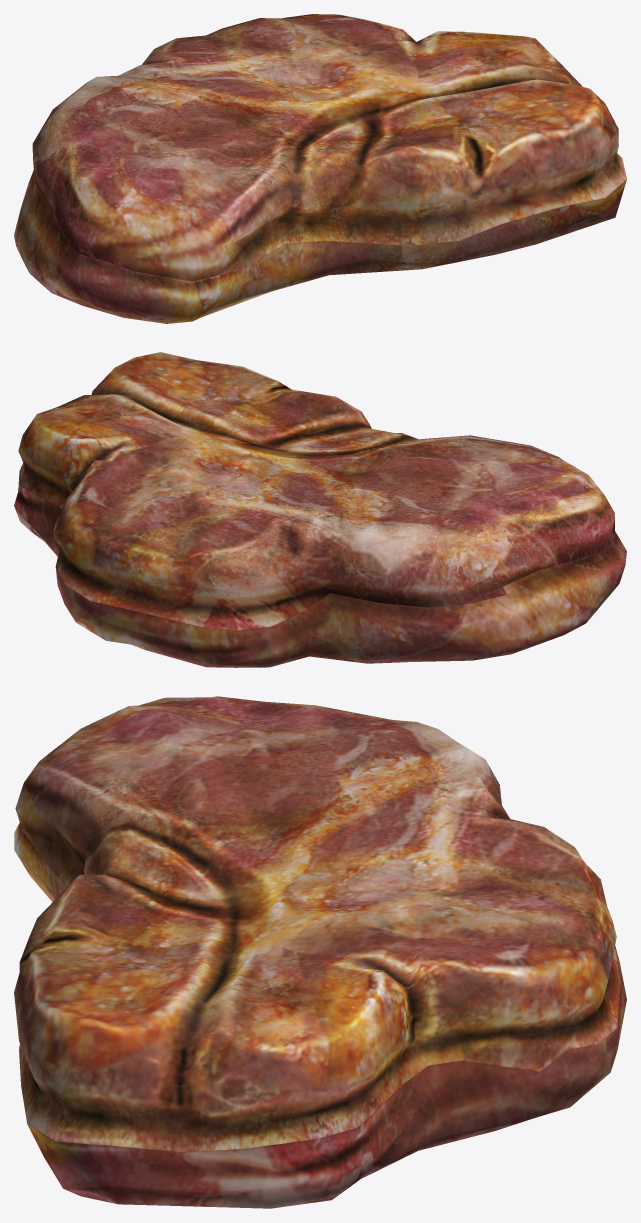
The model's file is kaorou.FBX.
The picture shows the model from 3 angles, top to bottom: view 1: azimuth 30°, elevation 25°; view 2: azimuth 150°, elevation 25°; view 3: azimuth 270°, elevation 25°; orthographic projection. The views are drawn at different scales.
Visible parts, largest first — view 1: kaorou; view 2: kaorou; view 3: kaorou.
Boxes of the visible parts, <box> form: kaorou: <box>14,14,626,323</box>; kaorou: <box>14,352,626,667</box>; kaorou: <box>14,696,626,1208</box>.
Size of the model in its own units: 29.92 by 6.99 by 20.34.
1 material, 1 textured.
